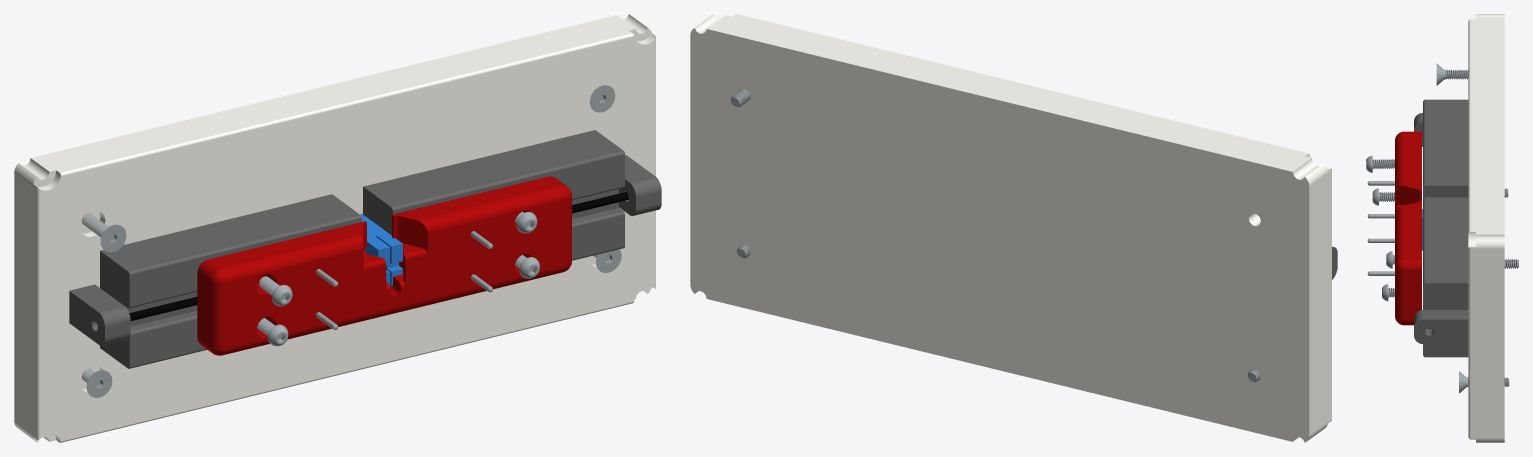
Rendered from gasket-compression-fixture.glb.
The picture shows the model from 3 angles, left to right: view 1: azimuth 30°, elevation 25°; view 2: azimuth 150°, elevation 25°; view 3: azimuth 270°, elevation 25°; orthographic projection. The views are drawn at different scales.
Bounding box in the file's own units: 0.12 × 0.05 × 0.0337.
